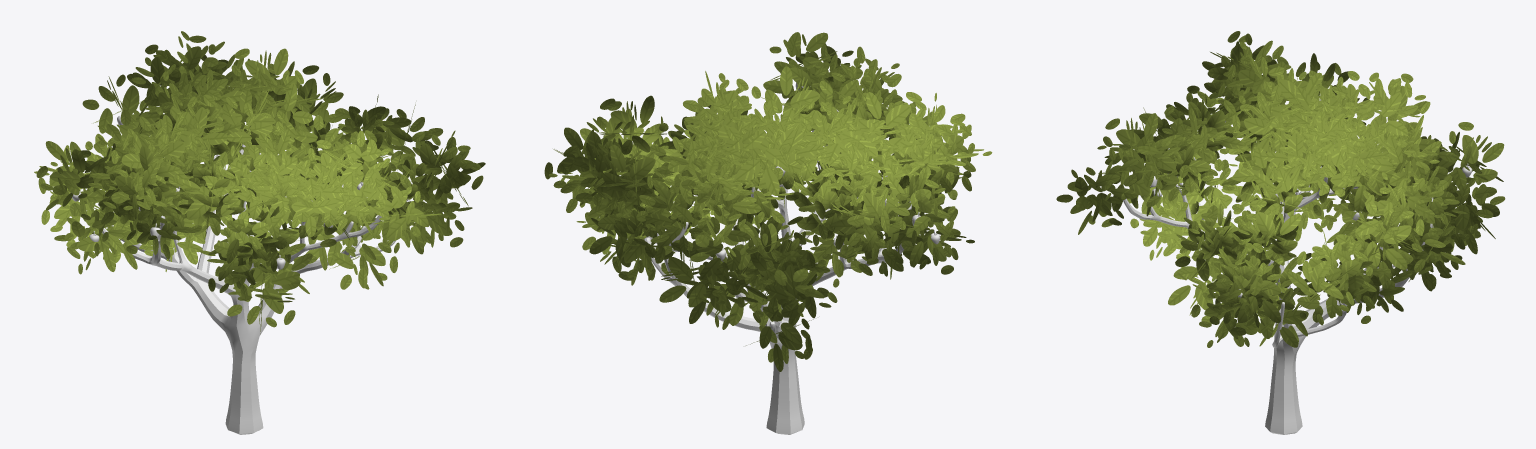
Rendered from arvore_1.fbx.
3 renders of one model, left to right at view 1: azimuth 30°, elevation 25°; view 2: azimuth 150°, elevation 25°; view 3: azimuth 270°, elevation 25°, orthographic. The views are drawn at different scales.
Parts seen in each view (by area): view 1: copa_1, tronco_1, maças_1; view 2: copa_1, tronco_1; view 3: copa_1, tronco_1.
Boxes of the visible parts, box(x1,y1,x2,y2) form: copa_1: box(34, 31, 485, 333); tronco_1: box(102, 144, 410, 434); maças_1: box(71, 115, 410, 269); copa_1: box(544, 32, 992, 371); tronco_1: box(619, 86, 911, 434); copa_1: box(1056, 31, 1505, 347); tronco_1: box(1123, 121, 1433, 434).
Size of the model in its own units: 4764 by 3968 by 4671.
